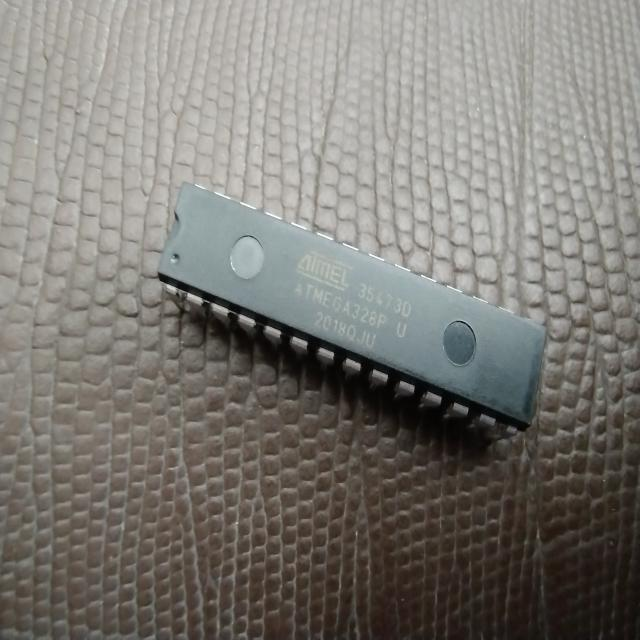atmega: (155, 178, 549, 438)
